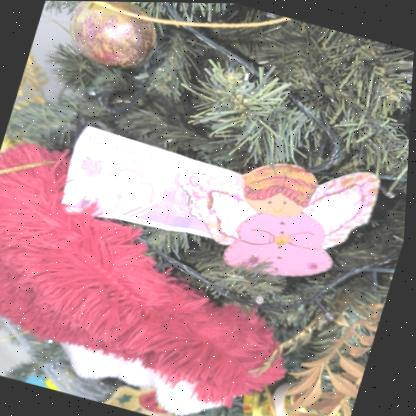one_hundred-back-vef: (56, 123, 254, 254)
